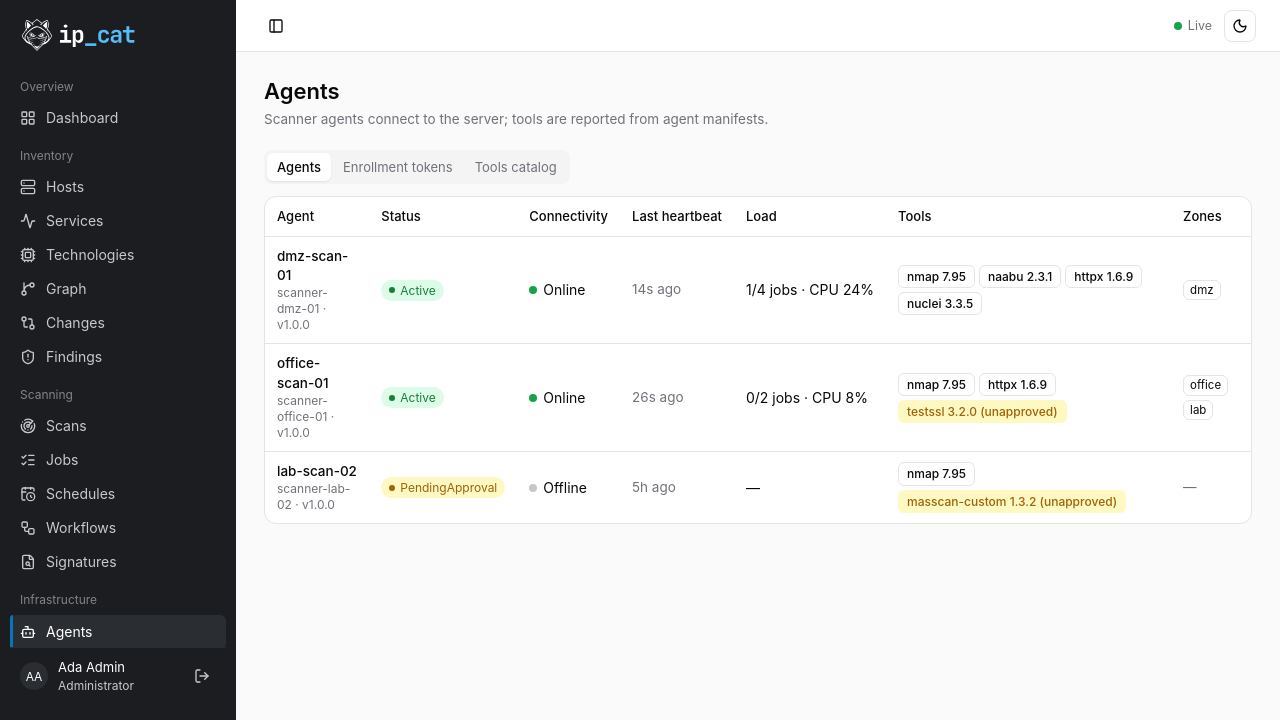
Scenario: backend contracts › marks revoked enrollment tokens and hides their Revoke button
Step 1. Click the tab "Enrollment tokens" → (398, 167), box left=333, top=153, right=463, bottom=181
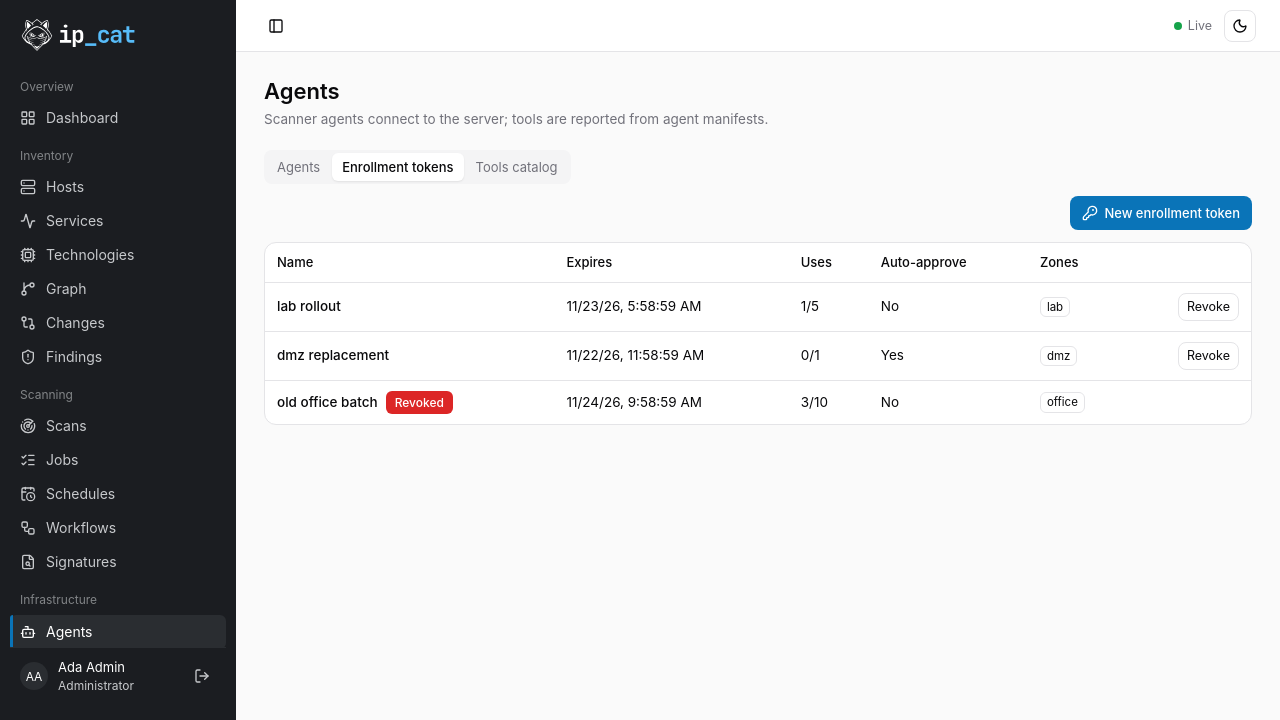
Check: the text "Revoked" is shown, box left=386, top=391, right=453, bottom=414
Check: the button "Revoke" in the row of "lab rollout" is shown, box left=1178, top=293, right=1239, bottom=321
